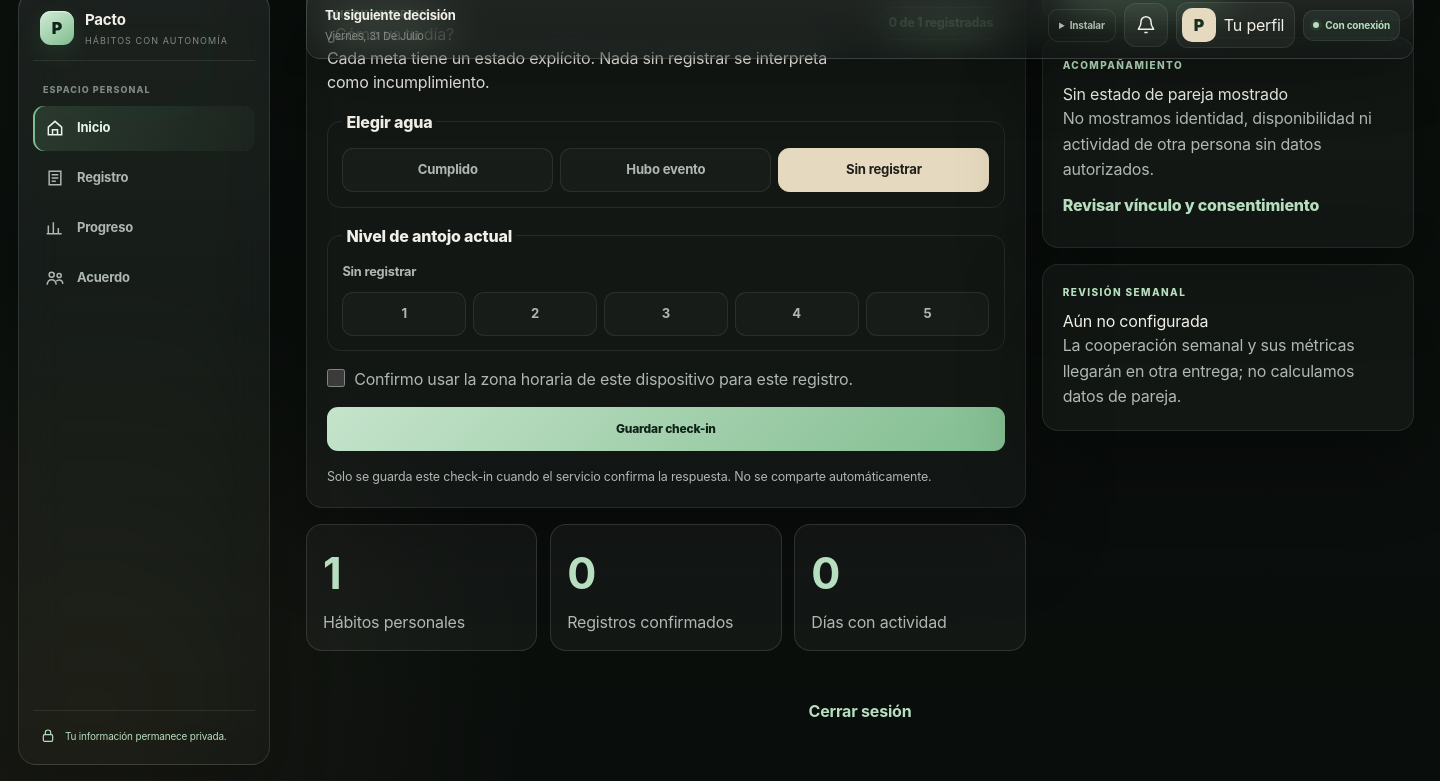
Test: daily check-in flow › blocks offline persistence without queueing or claiming a save
(page scrolled)
expect the heading "¿Cómo va tu día?" is shown: met, box [327,24,454,44]
Click the checkbox labelled "Confirmo usar la zona horaria": x=336, y=378 [327,370,345,387]
(page scrolled)
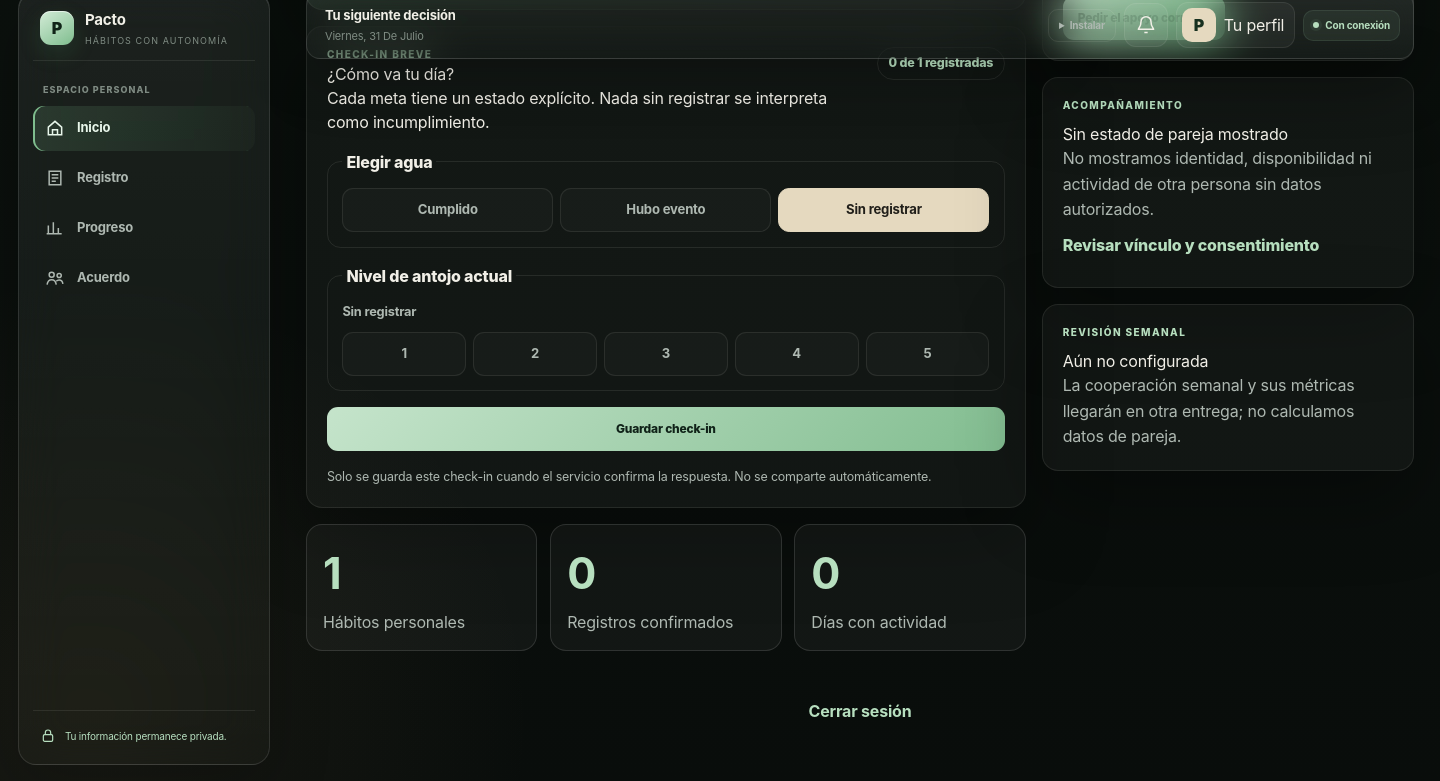
expect the heading "¿Cómo va tu día?" is shown: met, box [327,64,454,84]
Click the button "Cumplido": x=448, y=210 [342,188,553,232]
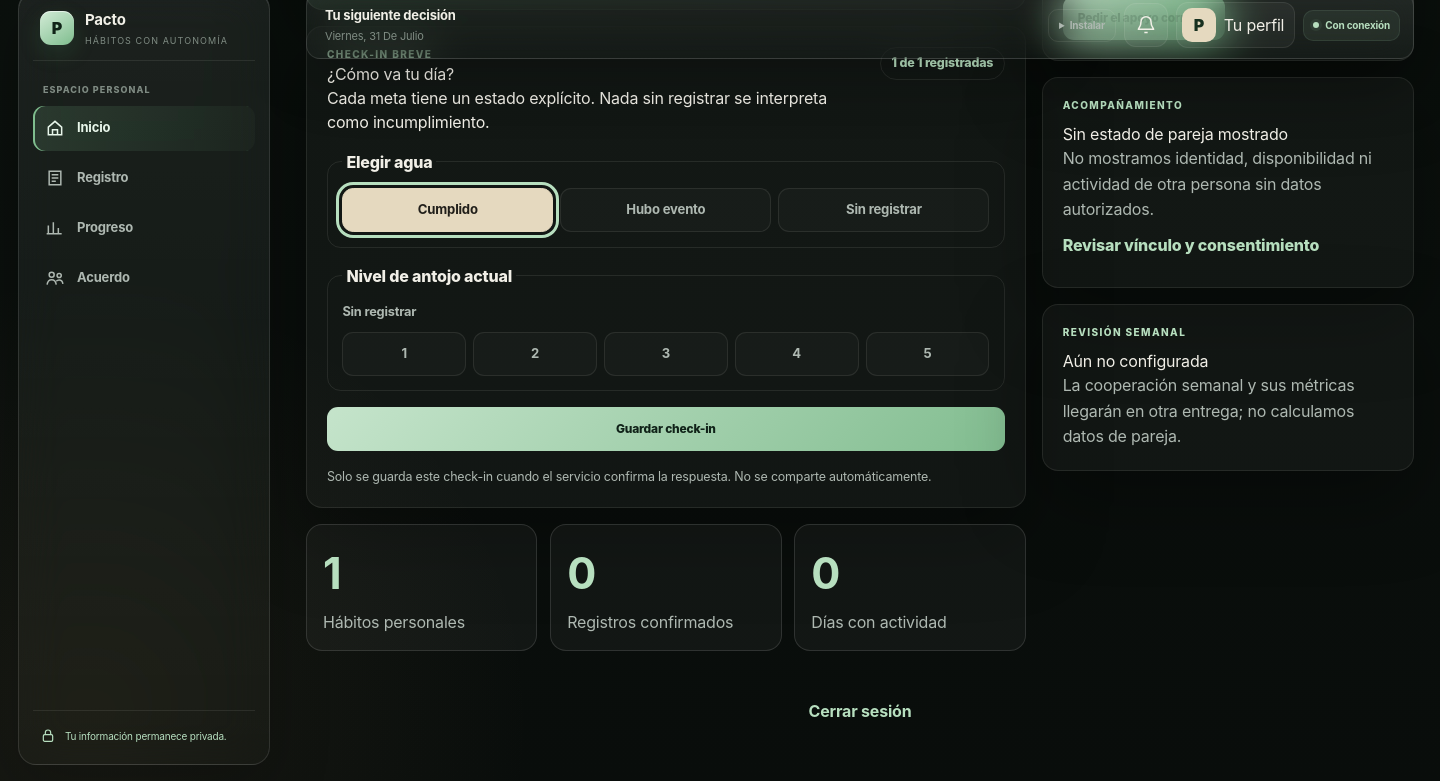
Click the button named "Antojo 1 de 5": x=404, y=354 [342,332,466,376]
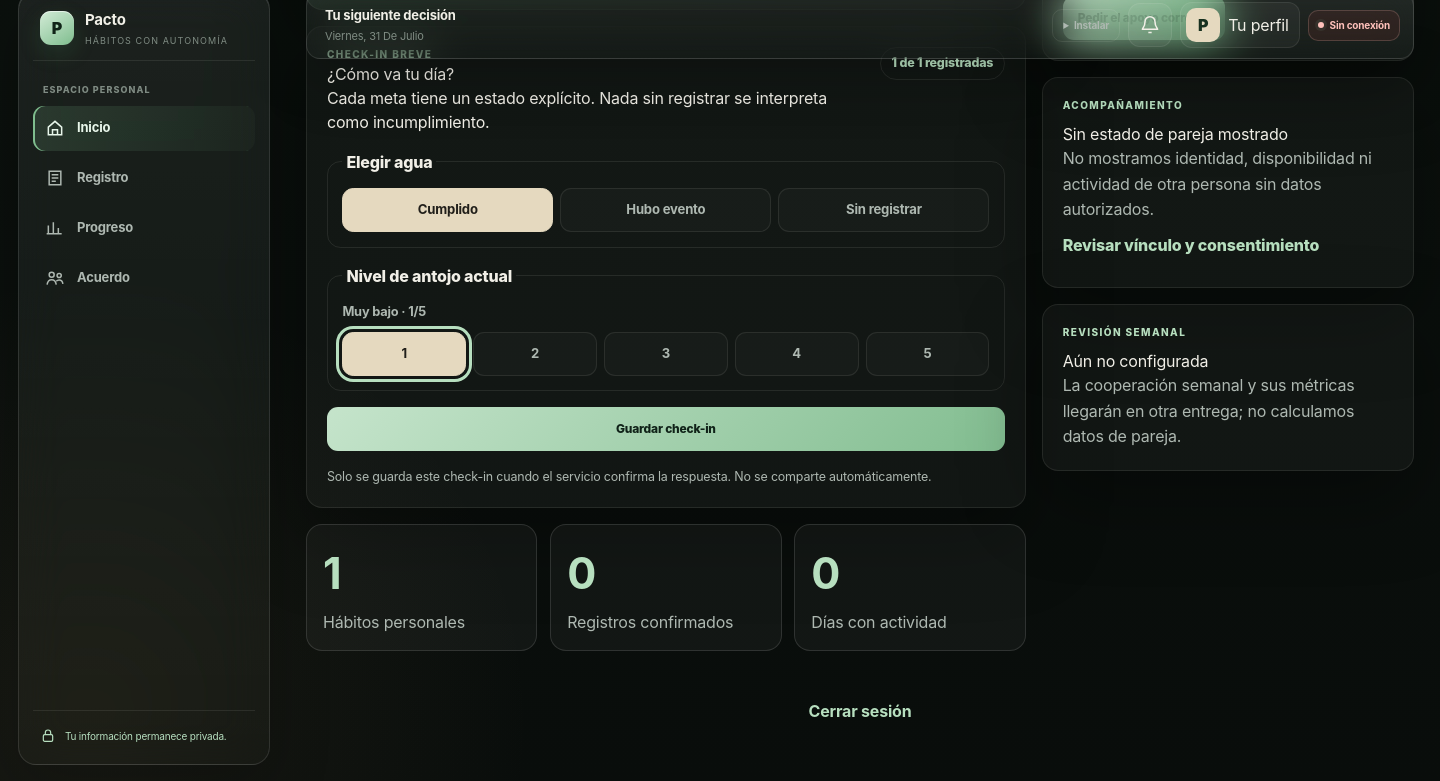
Click the button "Guardar check-in": x=666, y=429 [327,407,1005,451]
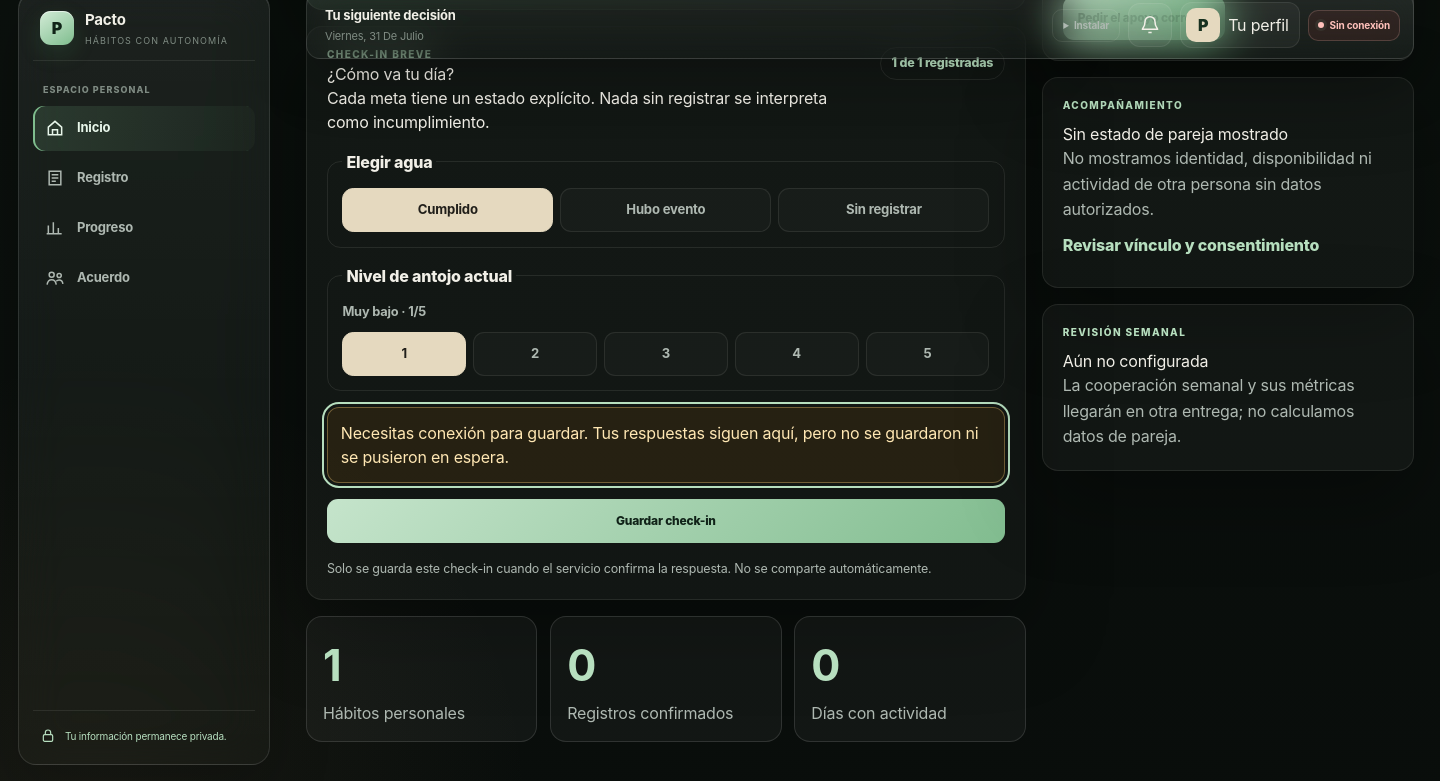
expect the message shows "no se guardaron ni se pusieron en espera": met, box [341,423,978,467]
